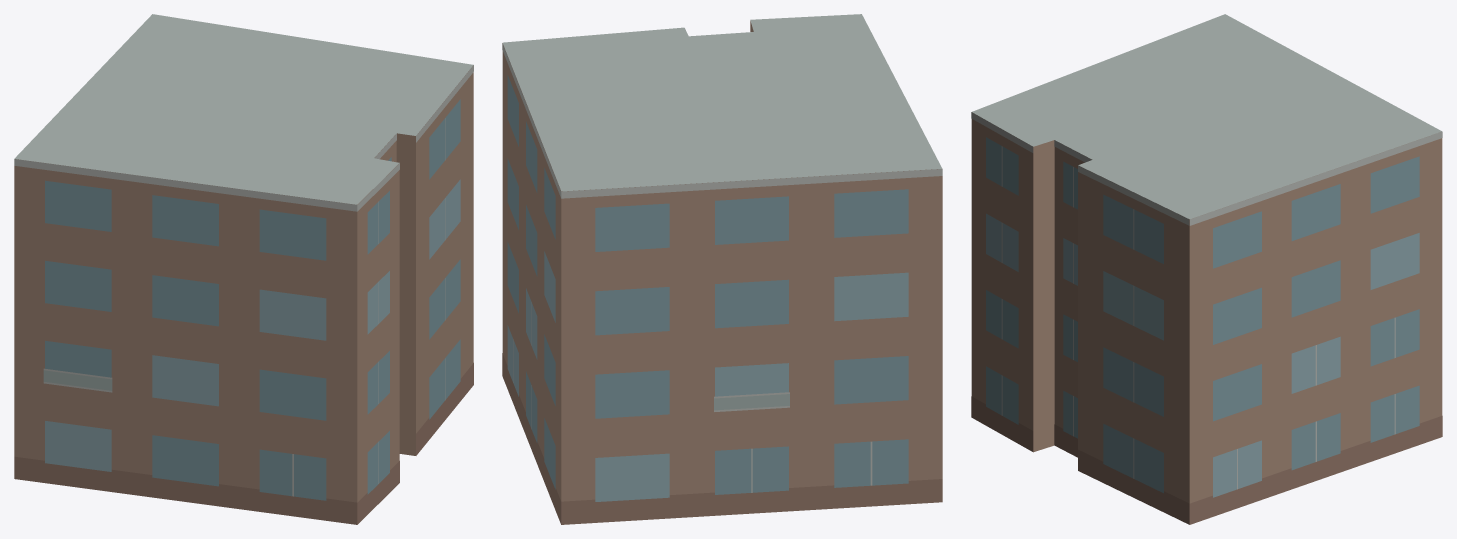
The model's file is survey-upis-32864349.glb.
3 renders of one model, left to right at view 1: azimuth 30°, elevation 25°; view 2: azimuth 150°, elevation 25°; view 3: azimuth 270°, elevation 25°, orthographic. The views are drawn at different scales.
Visible parts, largest first — view 1: survey-upis-32864349.tmp; view 2: survey-upis-32864349.tmp; view 3: survey-upis-32864349.tmp.
Boxes of the visible parts, left/top/right/bottom form: survey-upis-32864349.tmp: left=14, top=14, right=473, bottom=524; survey-upis-32864349.tmp: left=502, top=14, right=942, bottom=524; survey-upis-32864349.tmp: left=971, top=14, right=1442, bottom=524.
Size of the model in its own units: 16.3 by 11.3 by 15.79.
